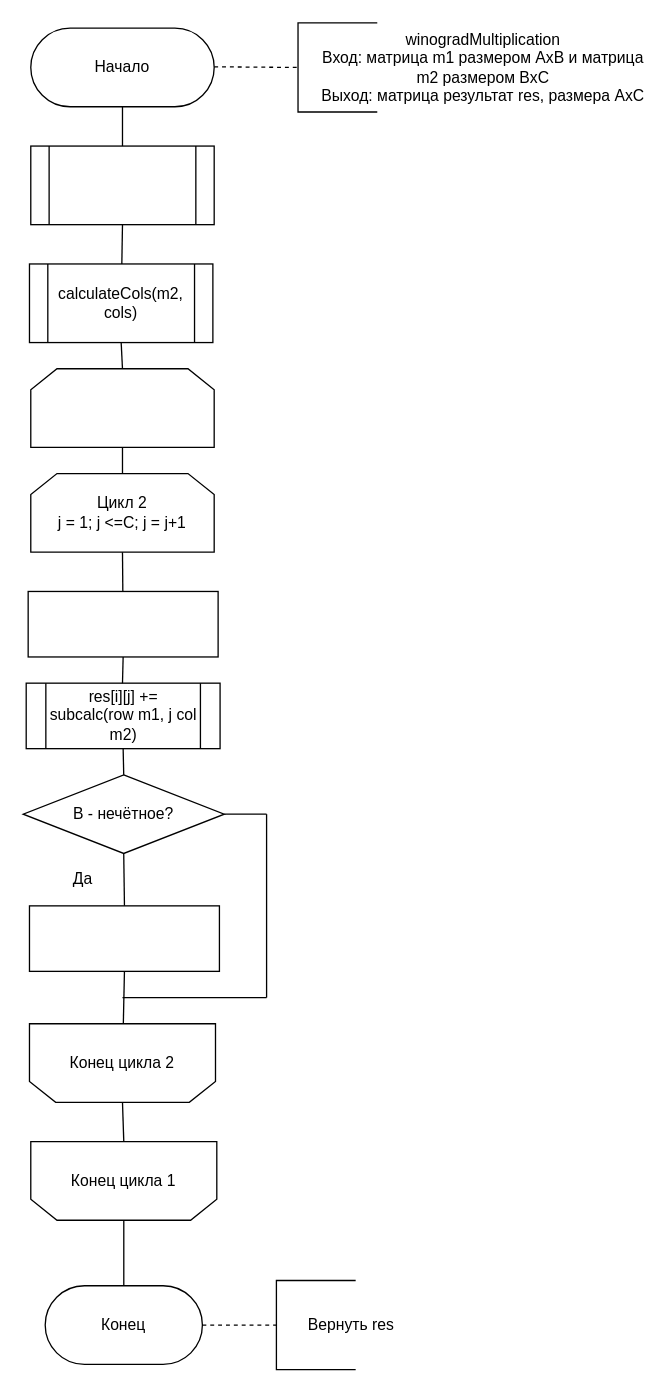
This 669x1393 diagram has some shape labels left out. The centre of each missing label's shape, as x and y in pixels:
calculateRows(m1, rows): (x=121, y=185)
res[i][j] += m1[i][b] * m2[b][j]: (x=123, y=938)
res[i][j] = rows[i] + cols[j]: (x=122, y=623)
Цикл 1 i = 1; i <=A; i = i+1: (x=121, y=407)
